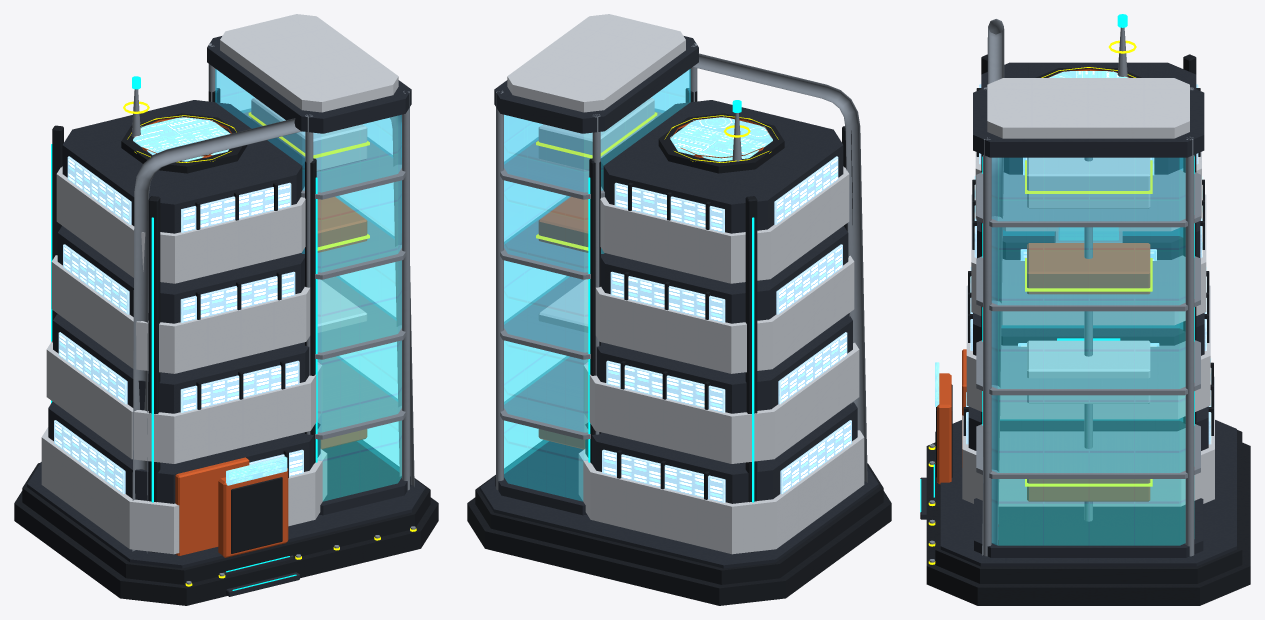
The model's file is bldg_13_r1_02.glb.
3 renders of one model, left to right at view 1: azimuth 30°, elevation 25°; view 2: azimuth 150°, elevation 25°; view 3: azimuth 270°, elevation 25°, orthographic. The views are drawn at different scales.
Parts seen in each view (by area): view 1: Bldg13_C02_aero_white, Bldg13_C02_carbon_slate, Bldg13_C02_glass_cyan, Bldg13_C02_gunmetal, Bldg13_C02_steel_machined, Bldg13_C02_window_lit, Bldg13_C02_accent_orange, Bldg13_C02_marquee, Bldg13_C02_led_cyan, Bldg13_C02_led_amber; view 2: Bldg13_C02_aero_white, Bldg13_C02_carbon_slate, Bldg13_C02_glass_cyan, Bldg13_C02_gunmetal, Bldg13_C02_steel_machined, Bldg13_C02_window_lit, Bldg13_C02_marquee, Bldg13_C02_accent_orange, Bldg13_C02_led_cyan, Bldg13_C02_led_amber; view 3: Bldg13_C02_glass_cyan, Bldg13_C02_steel_machined, Bldg13_C02_aero_white, Bldg13_C02_carbon_slate, Bldg13_C02_gunmetal, Bldg13_C02_accent_orange, Bldg13_C02_led_amber, Bldg13_C02_window_lit, Bldg13_C02_led_cyan, Bldg13_C02_marquee.
Boxes of the visible parts, left/top/right/bottom form: Bldg13_C02_aero_white: left=41, top=14, right=398, bottom=554; Bldg13_C02_carbon_slate: left=27, top=36, right=425, bottom=596; Bldg13_C02_glass_cyan: left=215, top=69, right=401, bottom=501; Bldg13_C02_gunmetal: left=14, top=88, right=438, bottom=605; Bldg13_C02_steel_machined: left=131, top=43, right=415, bottom=584; Bldg13_C02_window_lit: left=54, top=156, right=303, bottom=493; Bldg13_C02_accent_orange: left=134, top=116, right=367, bottom=557; Bldg13_C02_marquee: left=133, top=116, right=287, bottom=485; Bldg13_C02_led_cyan: left=51, top=76, right=317, bottom=590; Bldg13_C02_led_amber: left=123, top=101, right=416, bottom=586; Bldg13_C02_aero_white: left=507, top=14, right=864, bottom=554; Bldg13_C02_carbon_slate: left=480, top=36, right=878, bottom=568; Bldg13_C02_glass_cyan: left=504, top=69, right=690, bottom=501; Bldg13_C02_gunmetal: left=467, top=88, right=891, bottom=605; Bldg13_C02_steel_machined: left=496, top=43, right=867, bottom=490; Bldg13_C02_window_lit: left=602, top=156, right=851, bottom=502; Bldg13_C02_marquee: left=670, top=116, right=772, bottom=161; Bldg13_C02_accent_orange: left=538, top=116, right=771, bottom=449; Bldg13_C02_led_cyan: left=588, top=100, right=754, bottom=502; Bldg13_C02_led_amber: left=536, top=112, right=778, bottom=250; Bldg13_C02_glass_cyan: left=992, top=155, right=1194, bottom=545; Bldg13_C02_steel_machined: left=929, top=19, right=1200, bottom=562; Bldg13_C02_aero_white: left=962, top=78, right=1214, bottom=506; Bldg13_C02_carbon_slate: left=920, top=62, right=1236, bottom=566; Bldg13_C02_gunmetal: left=926, top=54, right=1250, bottom=605; Bldg13_C02_accent_orange: left=937, top=68, right=1150, bottom=501; Bldg13_C02_led_amber: left=928, top=40, right=1152, bottom=564; Bldg13_C02_window_lit: left=966, top=84, right=1211, bottom=444; Bldg13_C02_led_cyan: left=920, top=14, right=1194, bottom=512; Bldg13_C02_marquee: left=935, top=71, right=1128, bottom=406.
Bounding box in the file's own units: 12.5 × 16.82 × 10.71.
10 materials, 10 textured.
